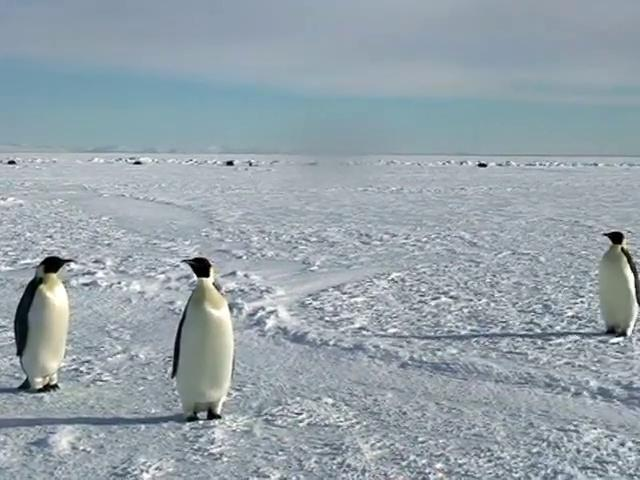animal: (171, 257, 233, 419)
